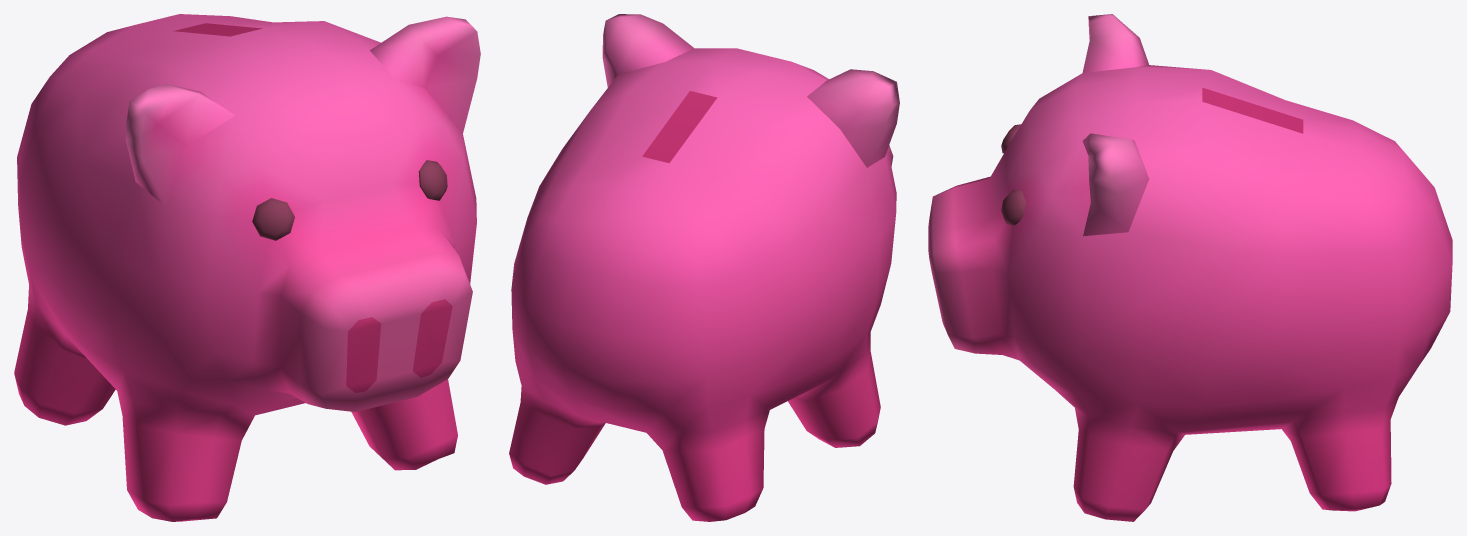
File: piggy_bank.glb
The picture shows the model from 3 angles, left to right: view 1: azimuth 30°, elevation 25°; view 2: azimuth 150°, elevation 25°; view 3: azimuth 270°, elevation 25°; orthographic projection. The views are drawn at different scales.
Parts seen in each view (by area): view 1: piggy_bank3; view 2: piggy_bank3; view 3: piggy_bank3.
Boxes of the visible parts, x1=… form: piggy_bank3: x1=14, y1=14, x2=480, y2=521; piggy_bank3: x1=509, y1=14, x2=899, y2=521; piggy_bank3: x1=928, y1=14, x2=1452, y2=521.
Bounding box in the file's own units: 0.1083 × 0.1297 × 0.16.
1 material, 1 textured.
